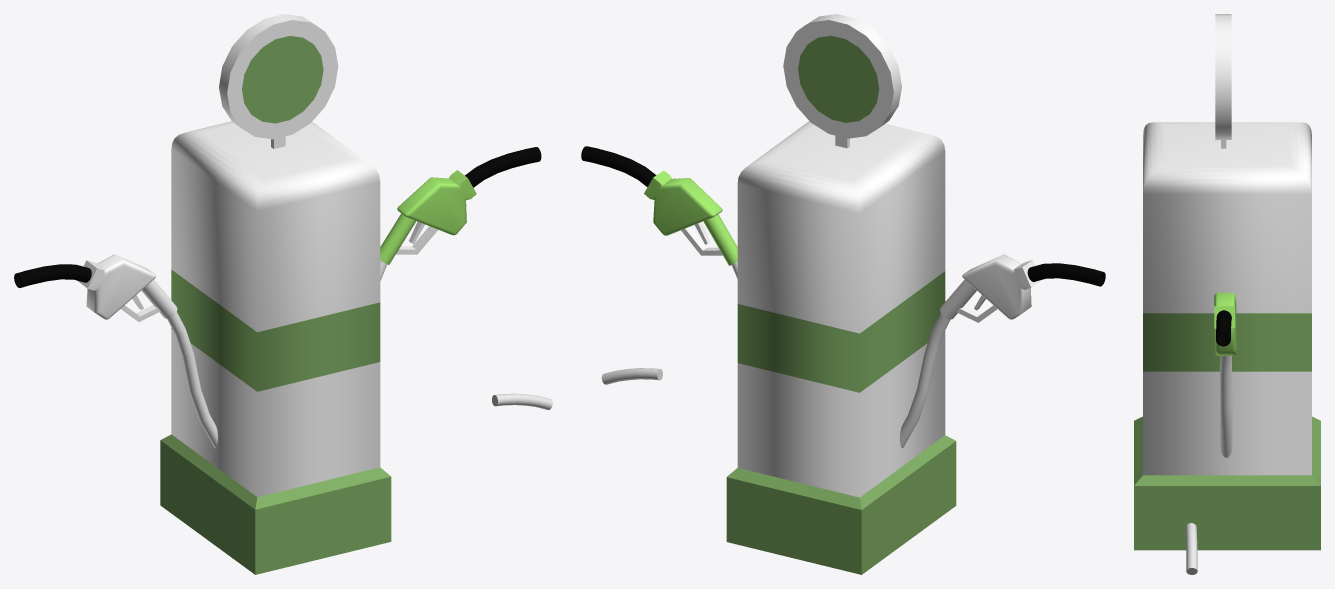
Rendered from EstacionGasolina.fbx.
3 views of the same model, side by side, from view 1: azimuth 30°, elevation 25°; view 2: azimuth 150°, elevation 25°; view 3: azimuth 270°, elevation 25° (orthographic).
Visible parts, largest first — view 1: EstacionGasolina, EstacionGasolina.002, EstacionGasolina.001, Cylinder002; view 2: EstacionGasolina, EstacionGasolina.002, EstacionGasolina.001, Cylinder002; view 3: EstacionGasolina, EstacionGasolina.001, Cylinder002.
Part boxes in pixels (x1=…): EstacionGasolina: x1=160, y1=14, x2=391, y2=574; EstacionGasolina.002: x1=14, y1=254, x2=217, y2=448; EstacionGasolina.001: x1=380, y1=147, x2=541, y2=280; Cylinder002: x1=492, y1=393, x2=552, y2=410; EstacionGasolina: x1=726, y1=14, x2=956, y2=574; EstacionGasolina.002: x1=900, y1=254, x2=1105, y2=448; EstacionGasolina.001: x1=581, y1=146, x2=737, y2=278; Cylinder002: x1=601, y1=368, x2=662, y2=384; EstacionGasolina: x1=1134, y1=14, x2=1320, y2=550; EstacionGasolina.001: x1=1214, y1=292, x2=1236, y2=457; Cylinder002: x1=1185, y1=523, x2=1197, y2=574.
Bounding box in the file's own units: 64.55 × 59.95 × 20.42.
